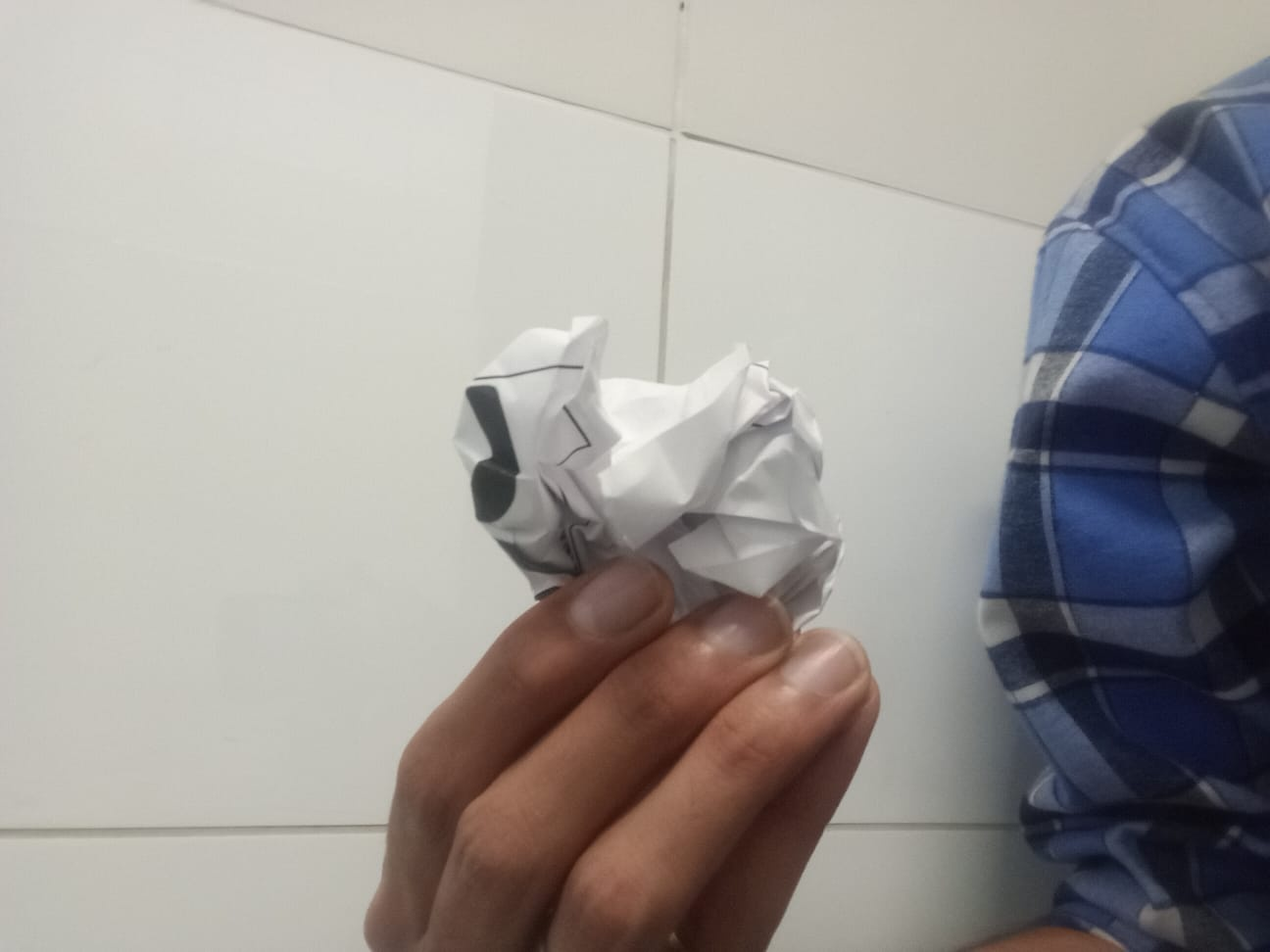Papel: (453, 315, 850, 636)
